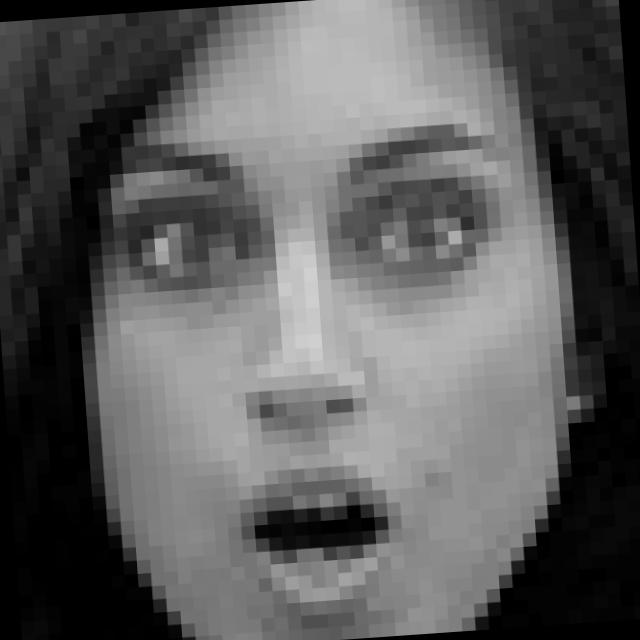surprise: (100, 98, 529, 639)
